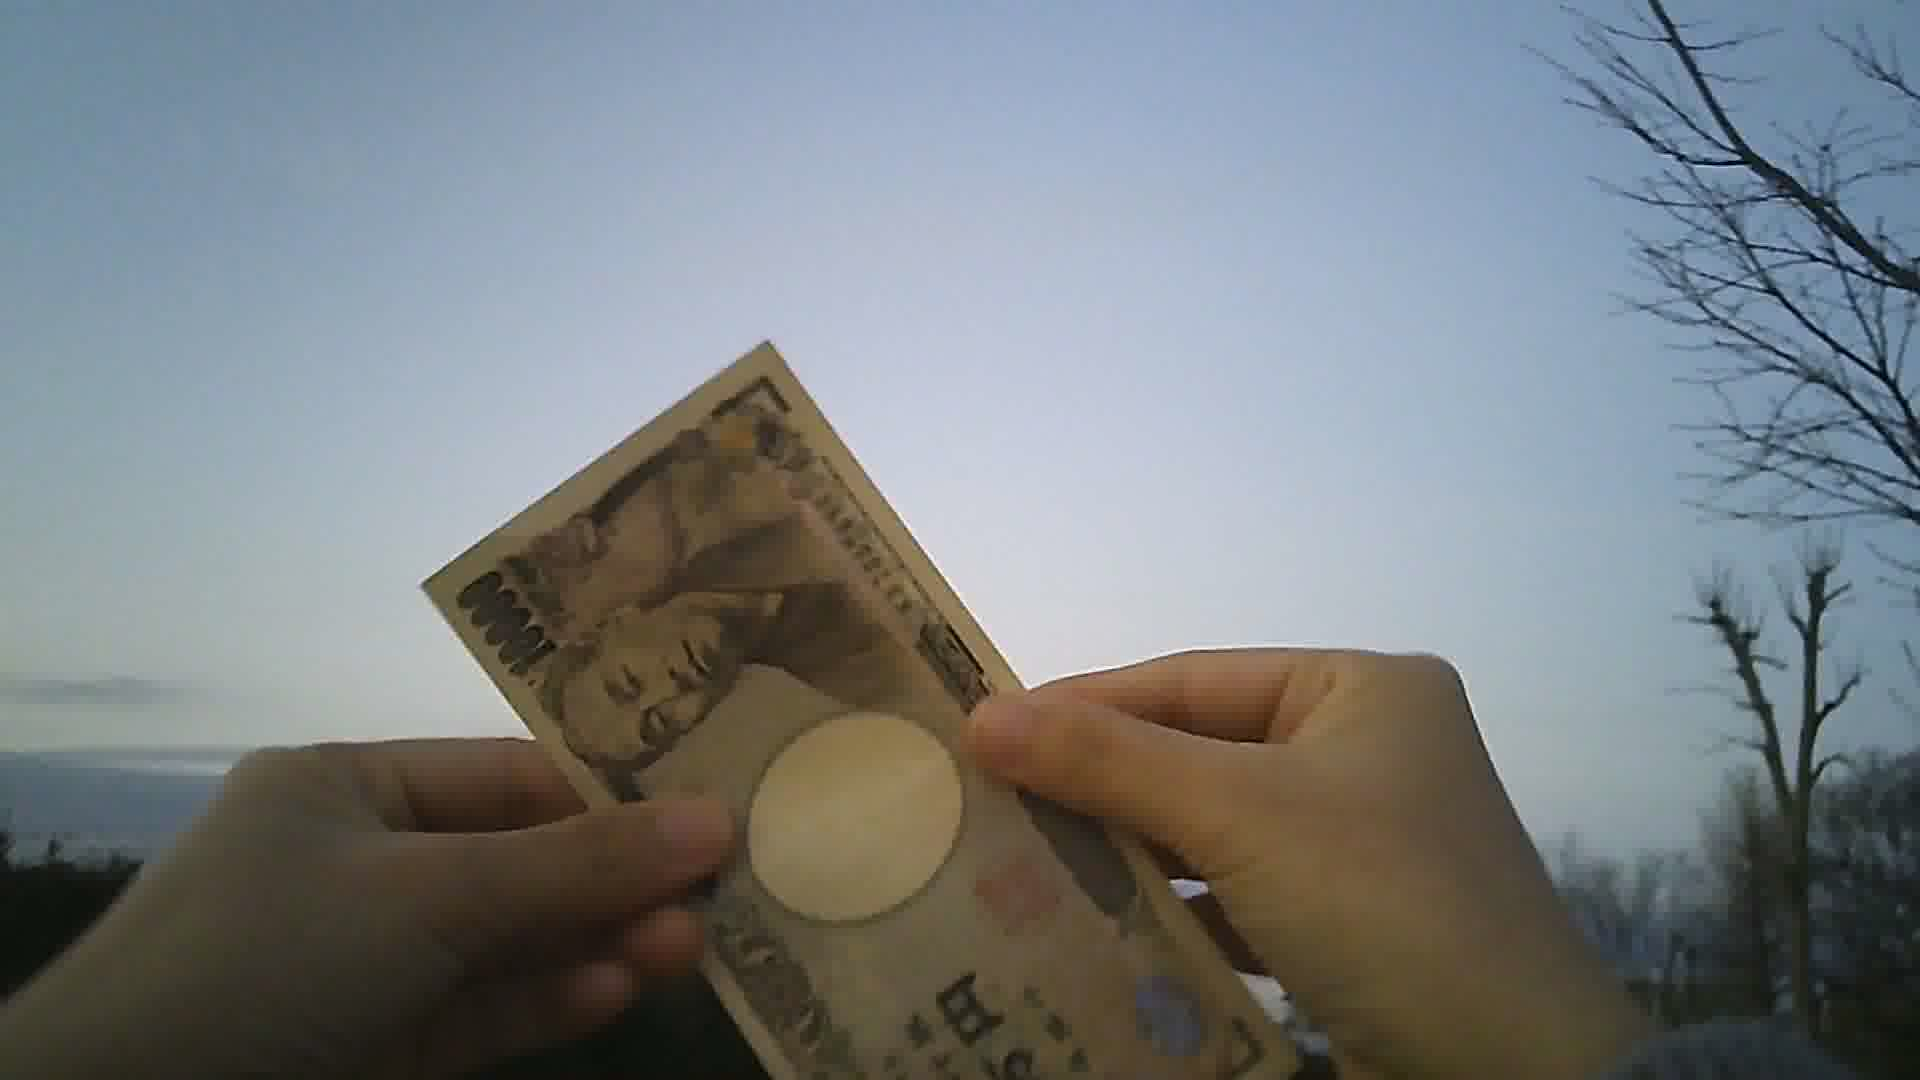10,000 Yen: (400, 342, 1286, 1079)
